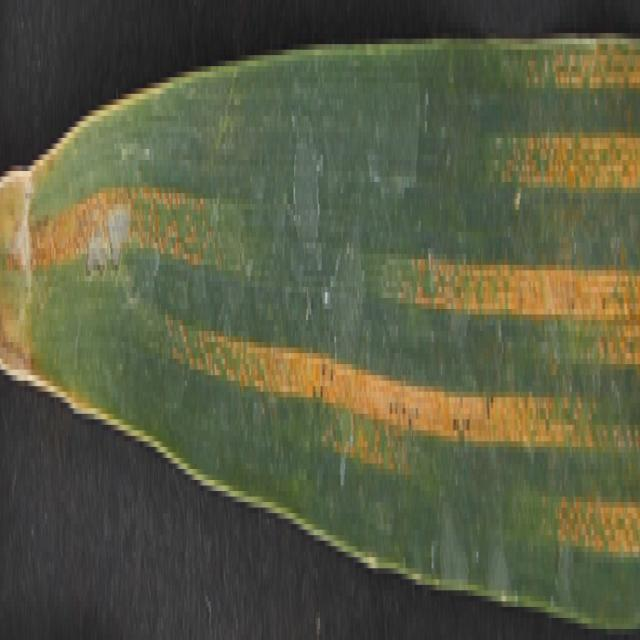leaf rust: (168, 309, 638, 579), (416, 17, 639, 326), (27, 116, 201, 303)
